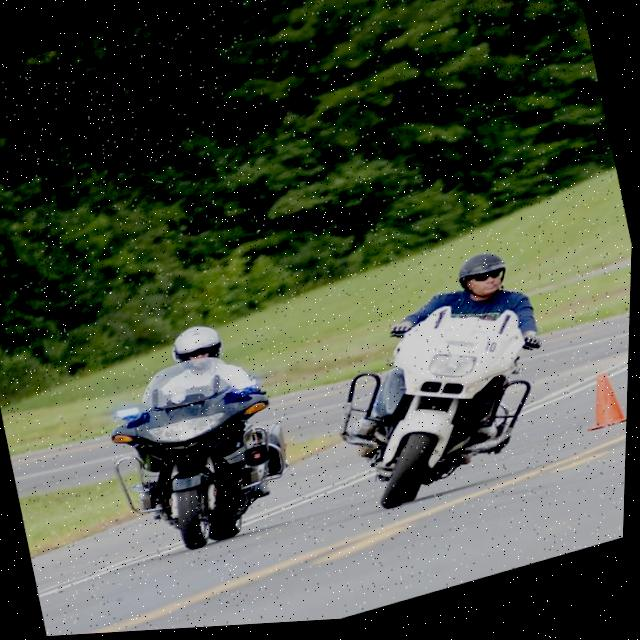motorcycle: (312, 278, 575, 529), (90, 321, 308, 571)
